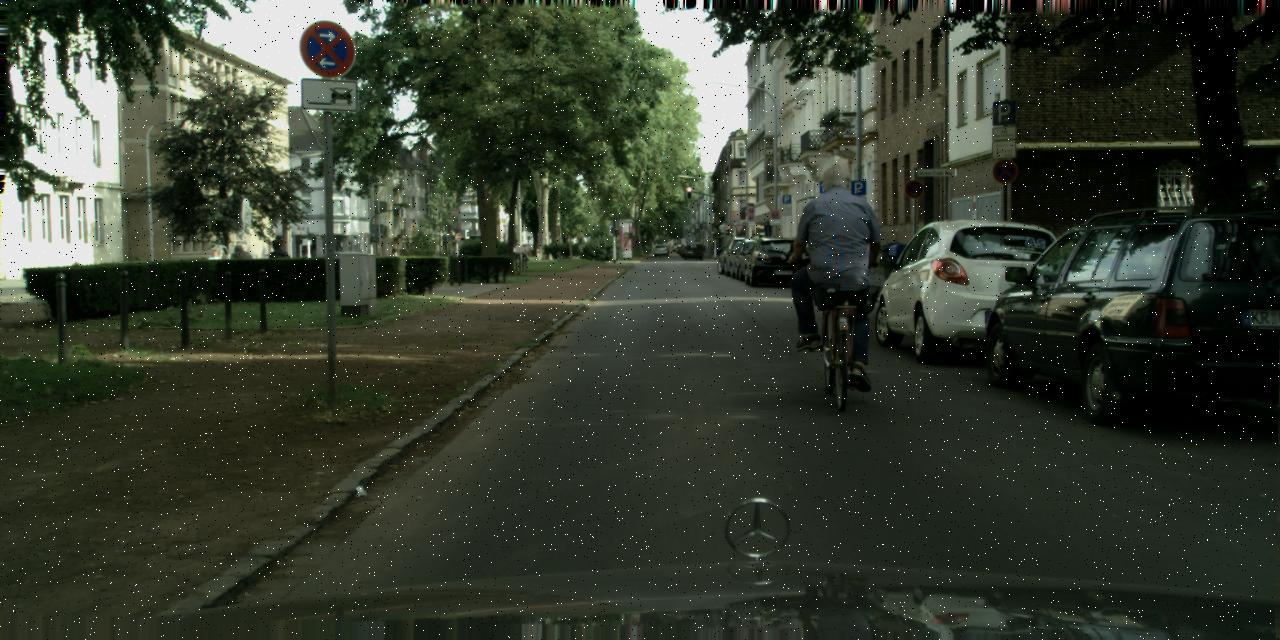ped: (795, 158, 877, 360), (209, 249, 222, 282), (516, 244, 530, 258)
